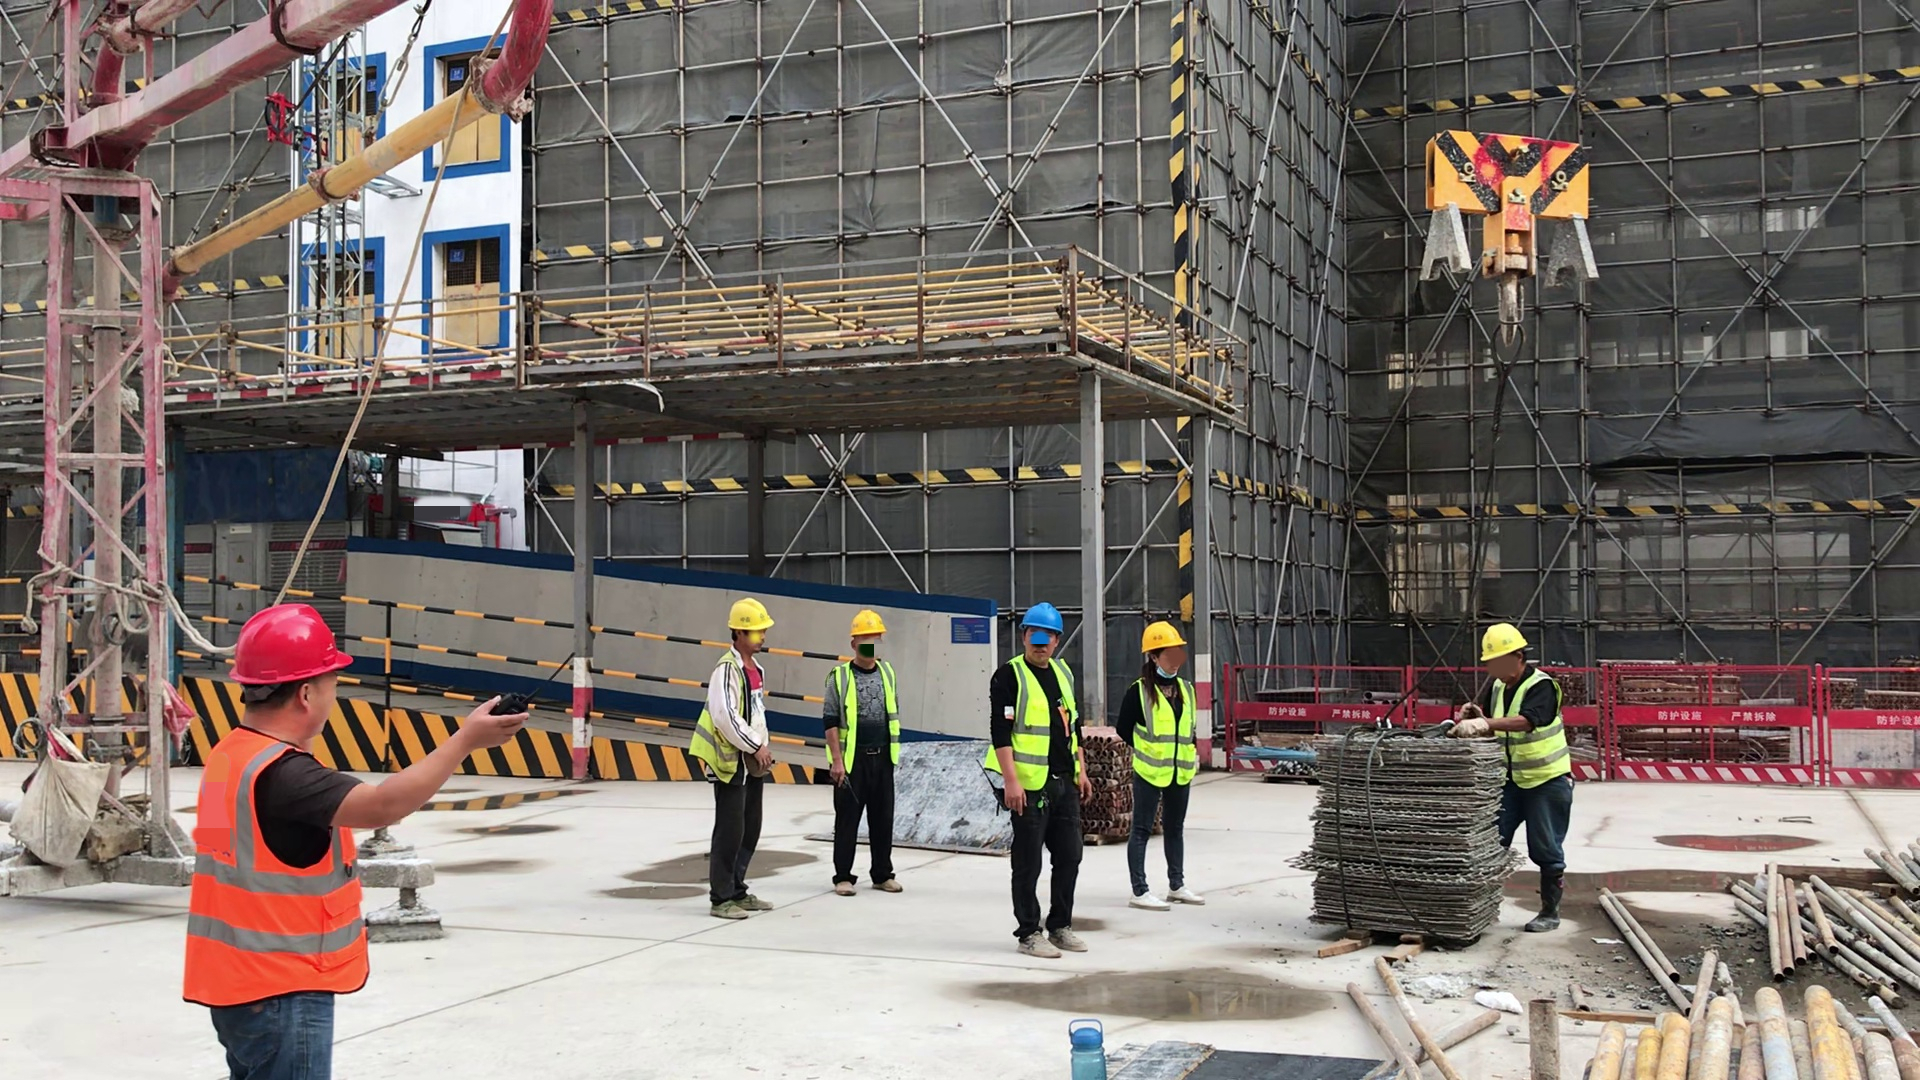board: (800, 734, 1046, 858)
fence: (1586, 654, 1912, 787), (1222, 658, 1434, 765)
helmet: (229, 602, 356, 687), (719, 597, 779, 635), (1475, 619, 1528, 662), (1013, 600, 1064, 638), (1137, 620, 1189, 655), (845, 608, 888, 641)
hook: (1401, 114, 1605, 351)
person: (180, 601, 576, 1080), (1440, 619, 1584, 934), (980, 595, 1095, 957), (681, 595, 781, 920), (1114, 620, 1210, 914), (819, 603, 909, 896)
vest: (186, 732, 375, 1010), (982, 654, 1089, 808), (1114, 674, 1213, 791), (1491, 667, 1569, 795), (685, 649, 757, 777), (823, 663, 901, 773)
